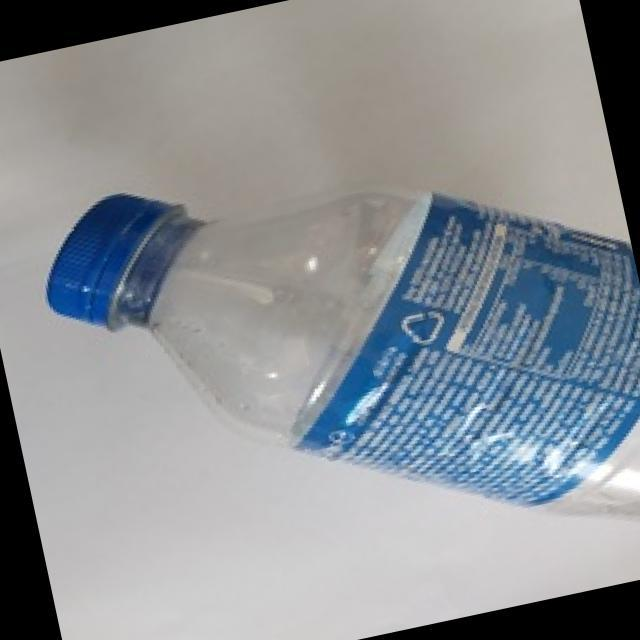good: (34, 81, 640, 639)
